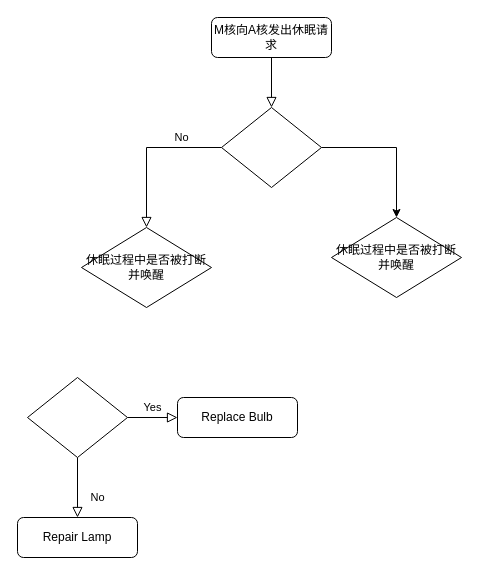
This 479x575 diagram has some shape labels left out. Here are the shapes that lost their labels. From the top down, the centre of each, then its label:
point (271, 147): A核是否顺利休眠？
point (77, 417): Bulb burned out?
